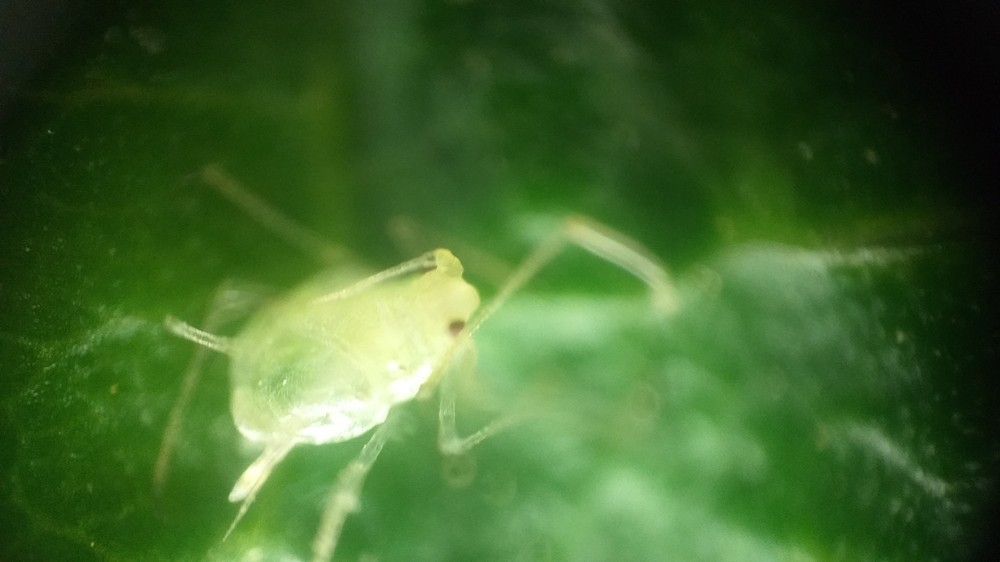Pulgon: (156, 173, 691, 476)
